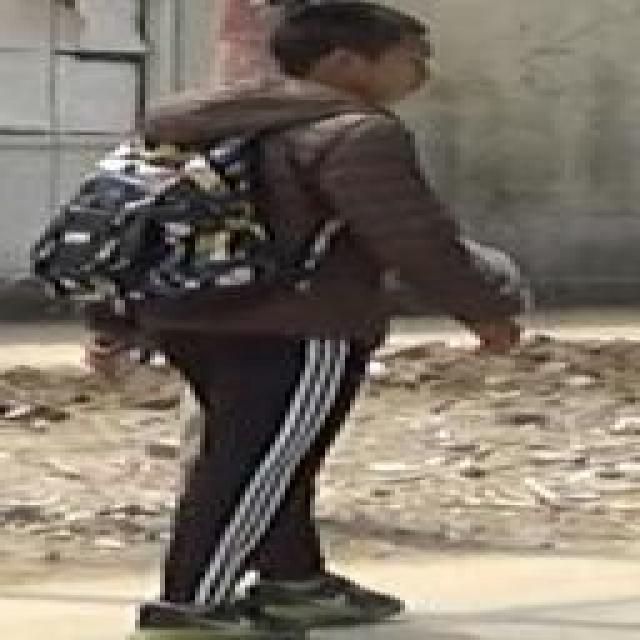adult: (50, 0, 545, 640)
